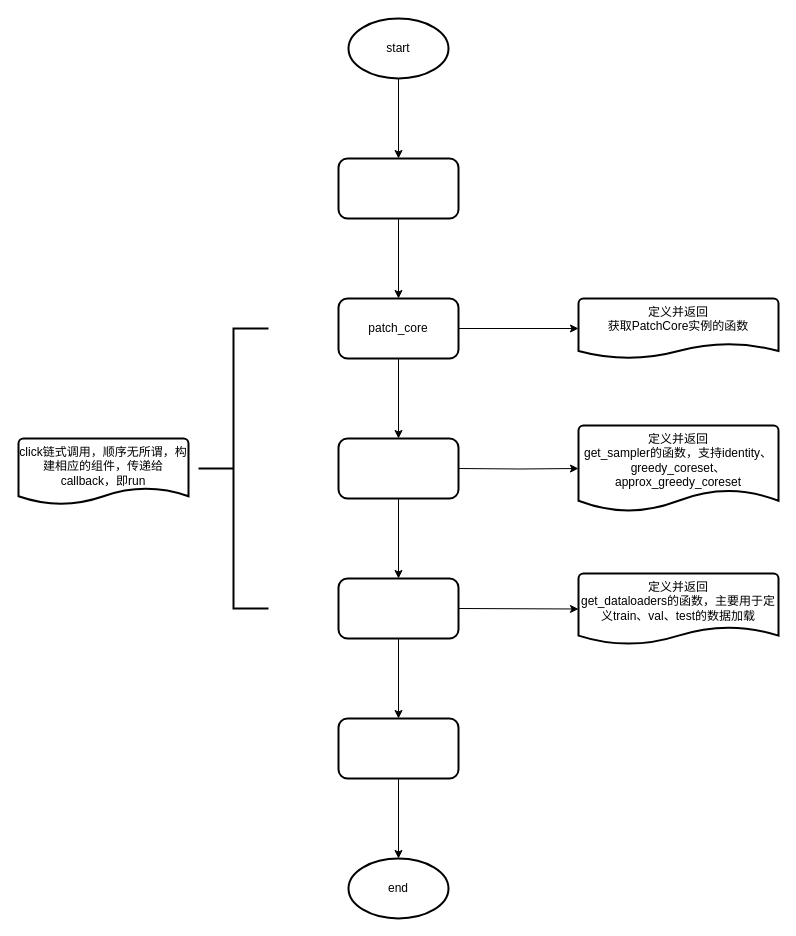
This 796x936 diagram has some shape labels left out. Here are the shapes that lost their labels. From the top down, the box of each, then its label:
(337, 157, 459, 219): main
(337, 437, 459, 499): sampler
(337, 577, 459, 639): dataset
(337, 717, 459, 779): run
